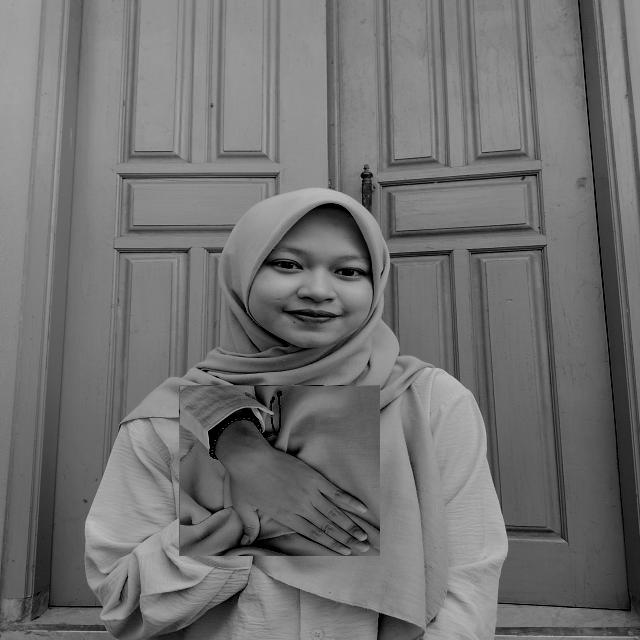tolong: (179, 385, 380, 556)
